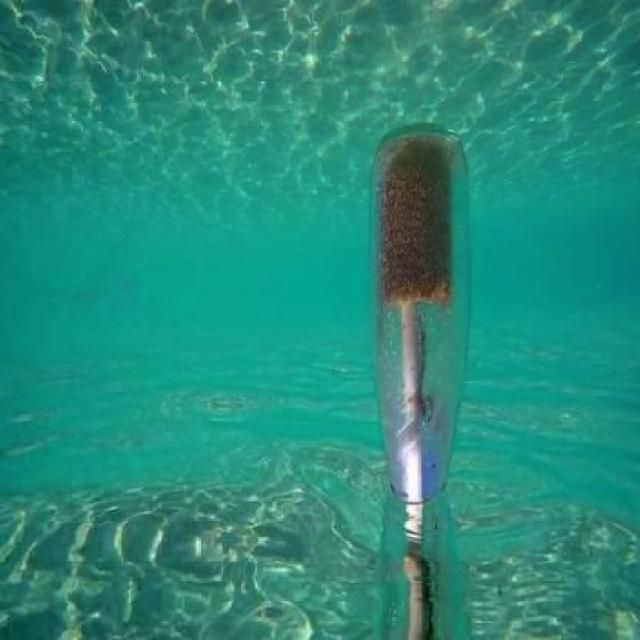gbottle: (365, 129, 467, 497)
